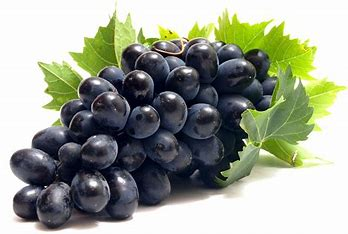grape: (14, 51, 266, 224)
